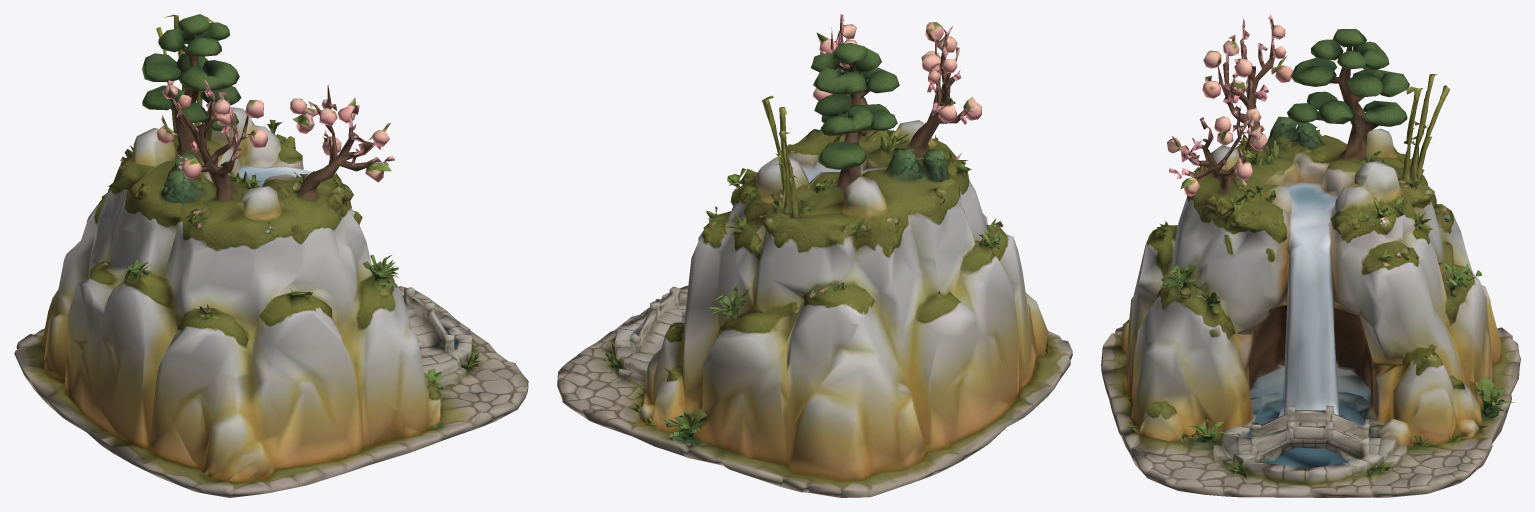
The model's file is lm_xiyou.glb.
The picture shows the model from 3 angles, left to right: view 1: azimuth 30°, elevation 25°; view 2: azimuth 150°, elevation 25°; view 3: azimuth 270°, elevation 25°; orthographic projection. The views are drawn at different scales.
Visible parts, largest first — view 1: tripo_node_8b238561-ba71-465c-8f00-8eeab139e73f; view 2: tripo_node_8b238561-ba71-465c-8f00-8eeab139e73f; view 3: tripo_node_8b238561-ba71-465c-8f00-8eeab139e73f.
Part boxes in pixels (x1,y1,x2,y2): tripo_node_8b238561-ba71-465c-8f00-8eeab139e73f: (14, 14, 528, 497); tripo_node_8b238561-ba71-465c-8f00-8eeab139e73f: (557, 14, 1072, 497); tripo_node_8b238561-ba71-465c-8f00-8eeab139e73f: (1101, 14, 1520, 497).
Bounding box in the file's own units: 0.9958 × 0.8967 × 0.9711.
Materials: 1 (1 with a texture image).
